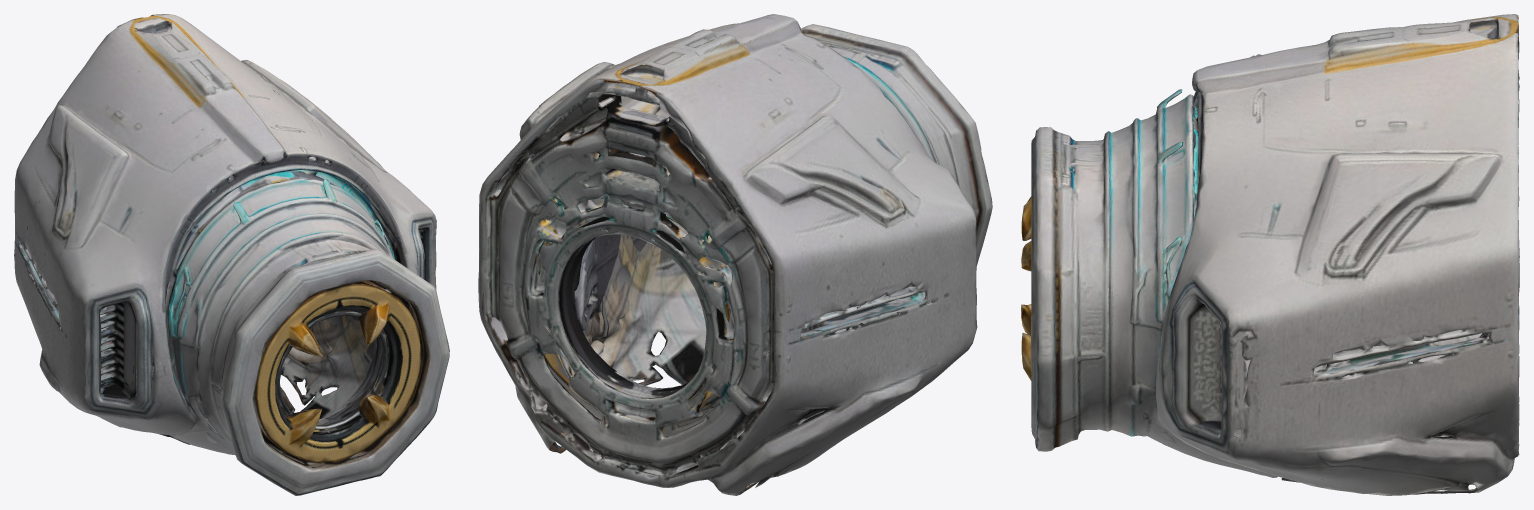
3 views of the same model, side by side, from view 1: azimuth 30°, elevation 25°; view 2: azimuth 150°, elevation 25°; view 3: azimuth 270°, elevation 25° (orthographic). The views are drawn at different scales.
Size of the model in its own units: 1 by 0.9667 by 1.
1 material, 1 textured.
